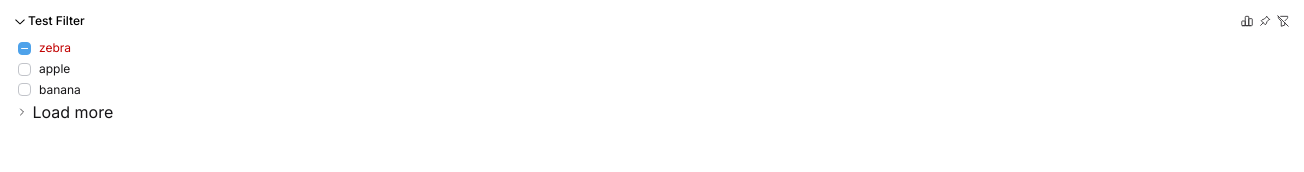
Test case: FilterGroup › should not show a percentage for an excluded value
Step 1. Click the checkbox with test id "toggle-distribution-button-Test Filter" → click(1247, 21), box x1=1238 y1=12 x2=1256 y2=30
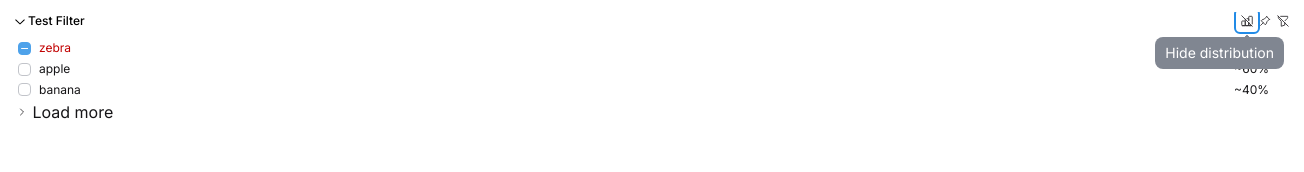
Now the text with test id "filter-distribution-Test Filter-apple" reads "~60%", box x1=1234 y1=61 x2=1269 y2=76
